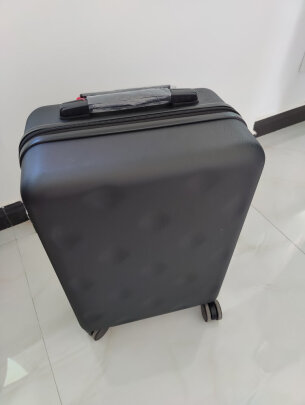box: (20, 87, 267, 330)
handle: (59, 87, 200, 119)
wheel: (201, 300, 224, 323)
